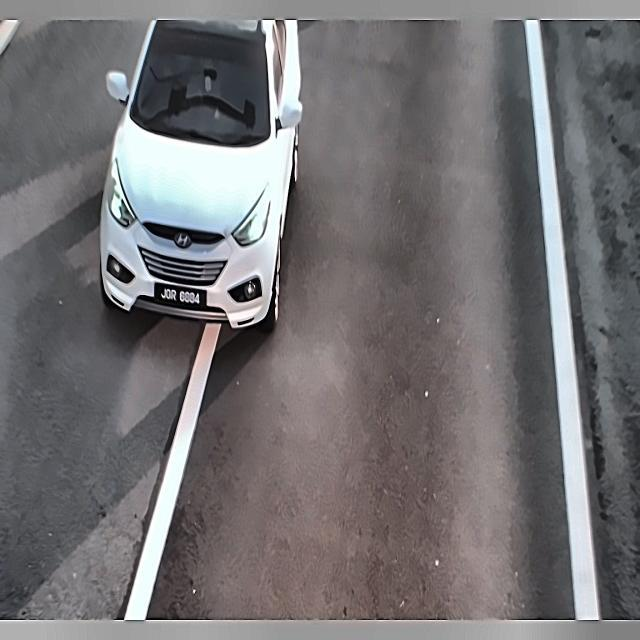car: (151, 281, 208, 312)
